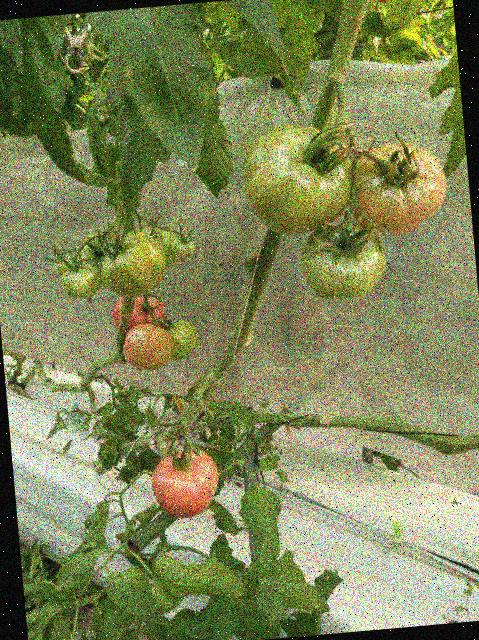b_fully_ripened: (148, 447, 221, 520), (110, 292, 168, 334)
b_green: (240, 119, 357, 240), (297, 216, 388, 303), (97, 228, 169, 299), (138, 223, 178, 271), (58, 259, 103, 301), (70, 230, 114, 271), (165, 318, 199, 361), (170, 235, 195, 258), (52, 255, 73, 275)
b_half_ripened: (348, 138, 450, 239), (120, 321, 175, 373)
